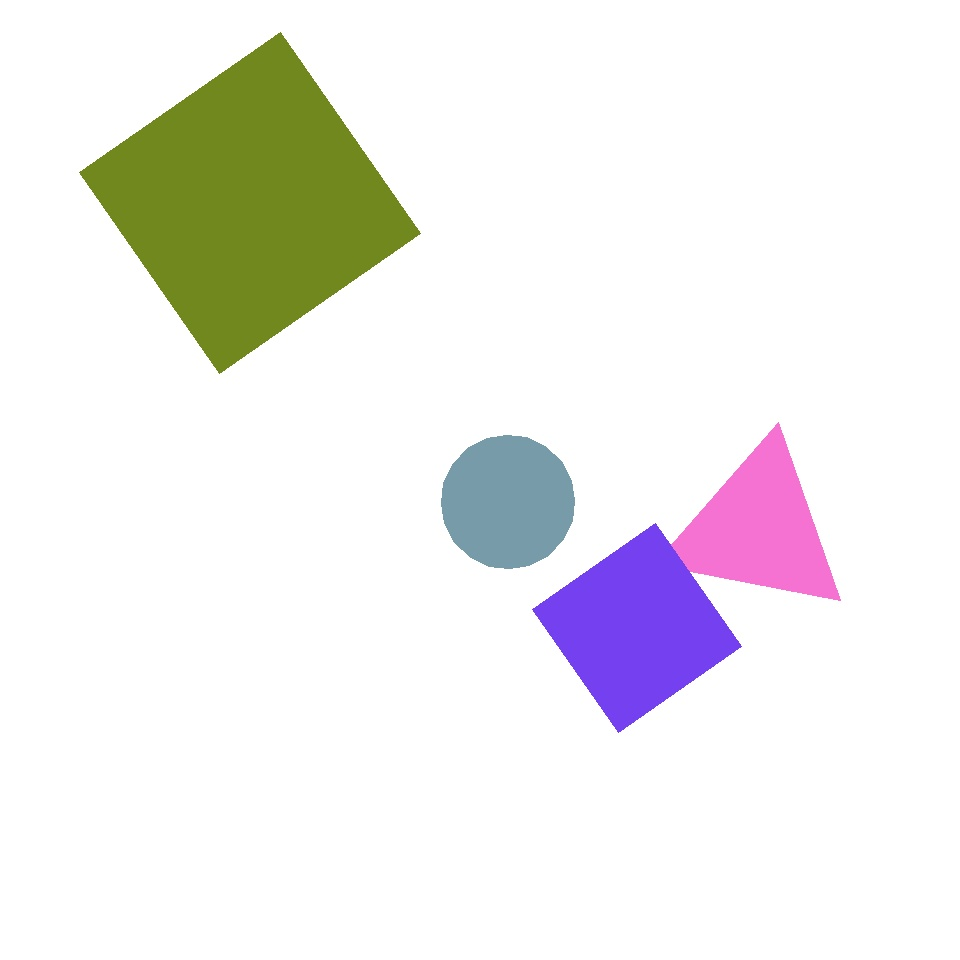circle: (43, 451, 347, 761), (665, 440, 851, 618), (651, 659, 809, 819)
square: (80, 32, 420, 374), (242, 688, 486, 932), (532, 524, 742, 732)
triangle: (504, 272, 832, 598), (24, 296, 268, 538), (693, 73, 834, 214), (442, 436, 574, 569)
